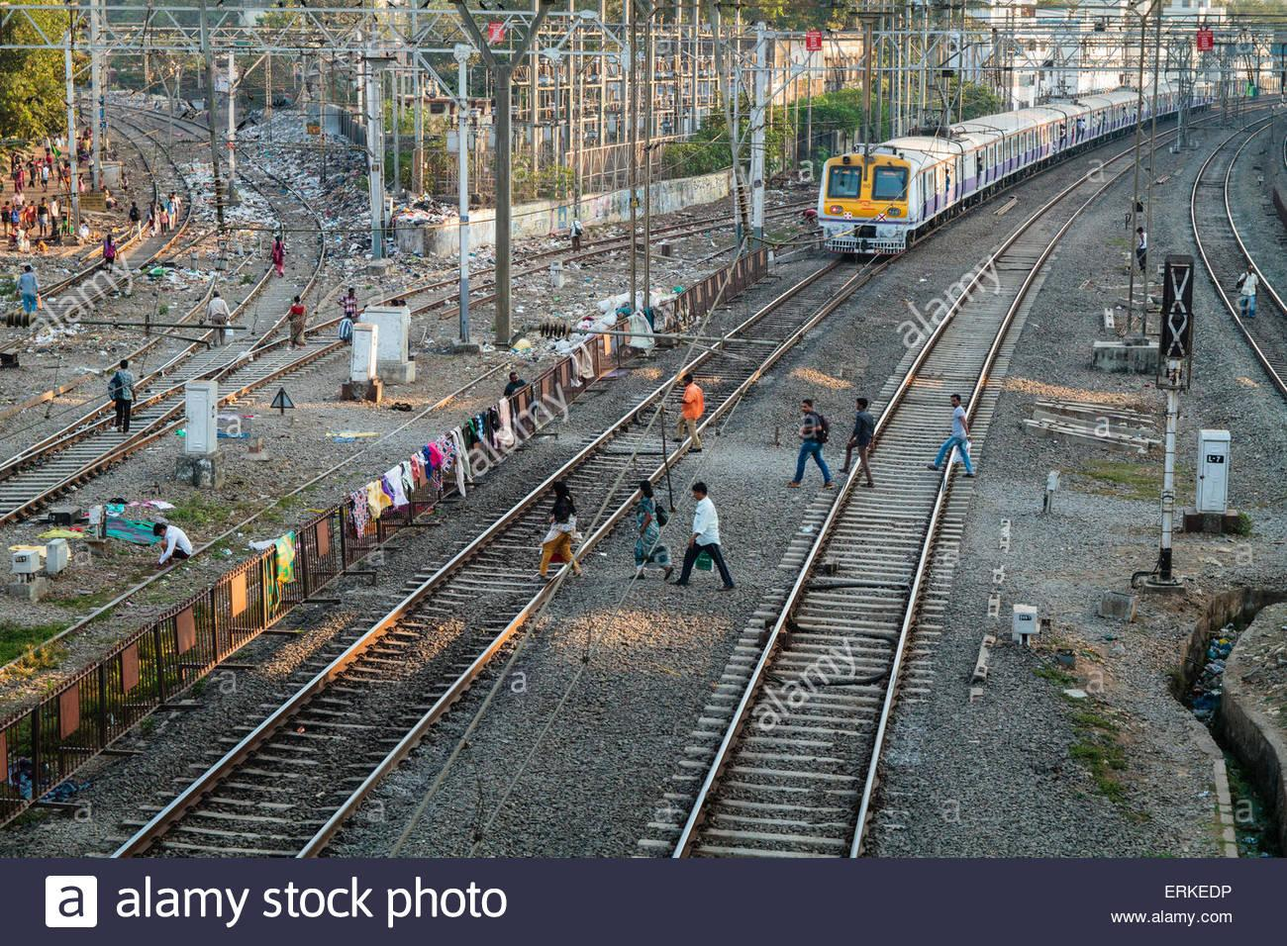person: (678, 477, 737, 595), (538, 473, 587, 590), (625, 473, 671, 585), (793, 395, 836, 497), (930, 388, 977, 481), (842, 392, 883, 492), (676, 366, 710, 455), (110, 352, 140, 437), (149, 517, 196, 569), (1235, 259, 1265, 330), (286, 295, 307, 349)
